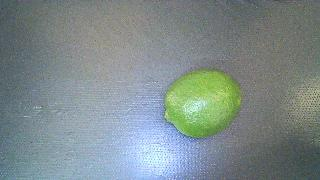EXPORTACION: (164, 69, 241, 138)
